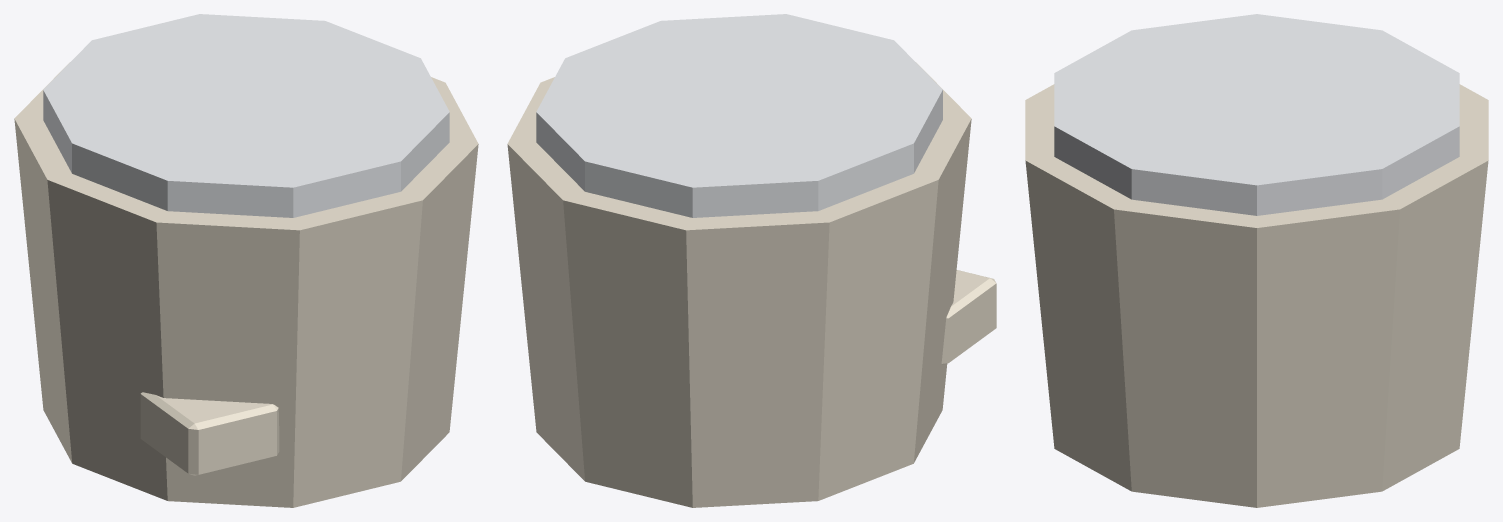
The model's file is b17_wide_brim_sun_hat.glb.
3 renders of one model, left to right at view 1: azimuth 30°, elevation 25°; view 2: azimuth 150°, elevation 25°; view 3: azimuth 270°, elevation 25°, orthographic.
Parts seen in each view (by area): view 1: b17_wide_brim_sun_hat; view 2: b17_wide_brim_sun_hat; view 3: b17_wide_brim_sun_hat.
Boxes of the visible parts, x1,y1,x2,y2 form: b17_wide_brim_sun_hat: (14, 14, 478, 507); b17_wide_brim_sun_hat: (507, 14, 996, 507); b17_wide_brim_sun_hat: (1025, 14, 1488, 507).
Bounding box in the file's own units: 0.398 × 0.306 × 0.398.
